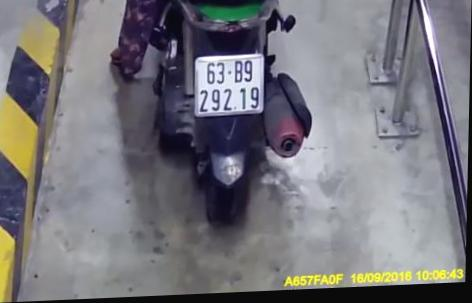License_Plate: (185, 49, 274, 126)
